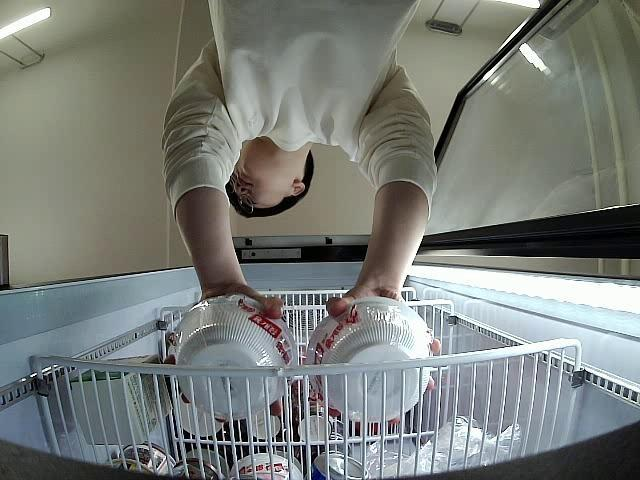09_yukGaeJang: (172, 293, 300, 422), (306, 300, 430, 425)
